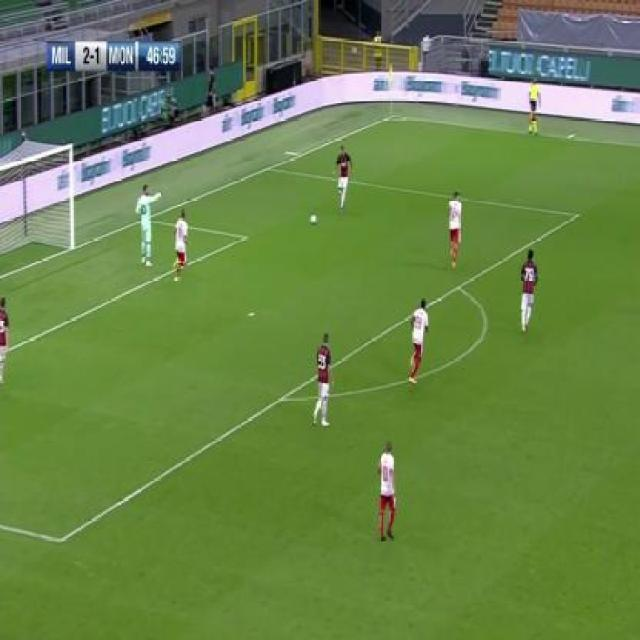ball: (310, 211, 319, 227)
player: (310, 331, 336, 430), (376, 437, 398, 543), (406, 295, 431, 386), (135, 179, 160, 267), (518, 247, 540, 336), (172, 208, 191, 285), (446, 187, 463, 272), (333, 142, 353, 213), (0, 295, 11, 389), (526, 76, 540, 138)
